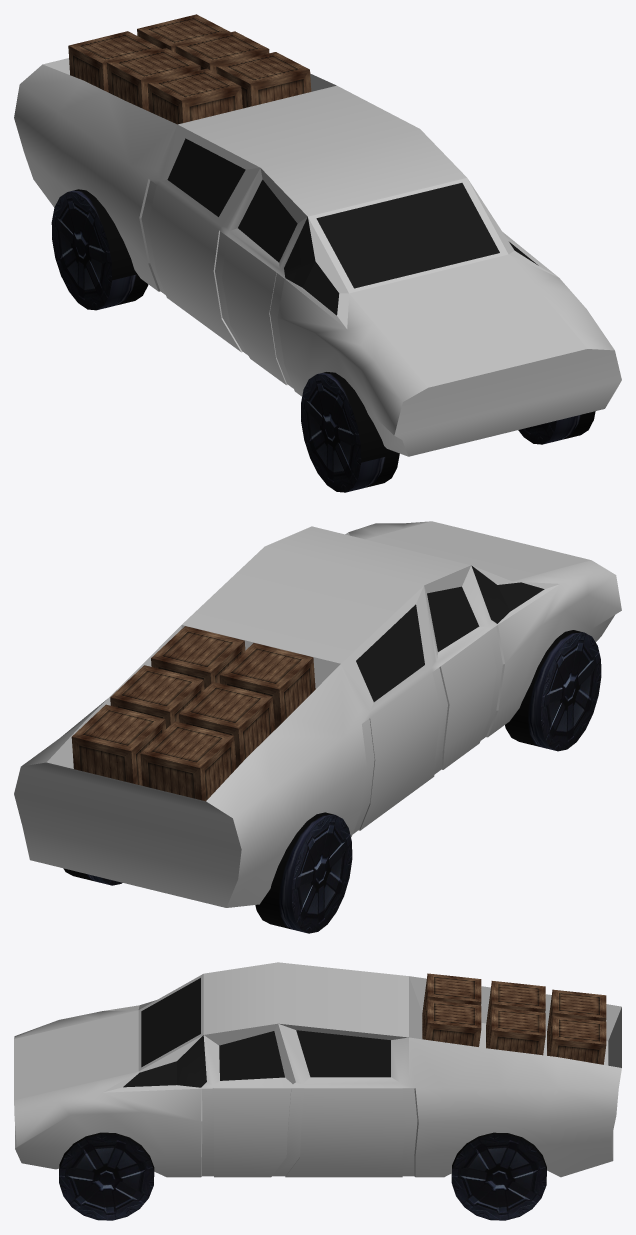
File: Truk.obj
The picture shows the model from 3 angles, top to bottom: view 1: azimuth 30°, elevation 25°; view 2: azimuth 150°, elevation 25°; view 3: azimuth 270°, elevation 25°; orthographic projection. The views are drawn at different scales.
Visible parts, largest first — view 1: pCube14, pCube14 pCylinder4, pCube14 pCylinder5, pCube14 pCylinder2; view 2: pCube14, pCube14 pCylinder5, pCube14 pCylinder4; view 3: pCube14, pCube14 pCylinder3, pCube14 pCylinder2.
Part boxes in pixels (<box>): pCube14: <box>14,14,621,456</box>; pCube14 pCylinder4: <box>301,372,399,492</box>; pCube14 pCylinder5: <box>51,189,148,310</box>; pCube14 pCylinder2: <box>518,411,595,444</box>; pCube14: <box>14,521,621,907</box>; pCube14 pCylinder5: <box>255,812,352,933</box>; pCube14 pCylinder4: <box>505,630,601,751</box>; pCube14: <box>14,962,621,1177</box>; pCube14 pCylinder3: <box>451,1132,546,1220</box>; pCube14 pCylinder2: <box>59,1132,154,1220</box>.
Size of the model in its own units: 2.49 by 2.34 by 7.07.
Materials: 4 (2 with a texture image).
